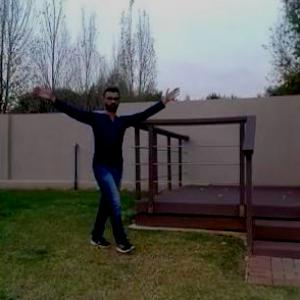takeoff: (42, 91, 180, 254)
